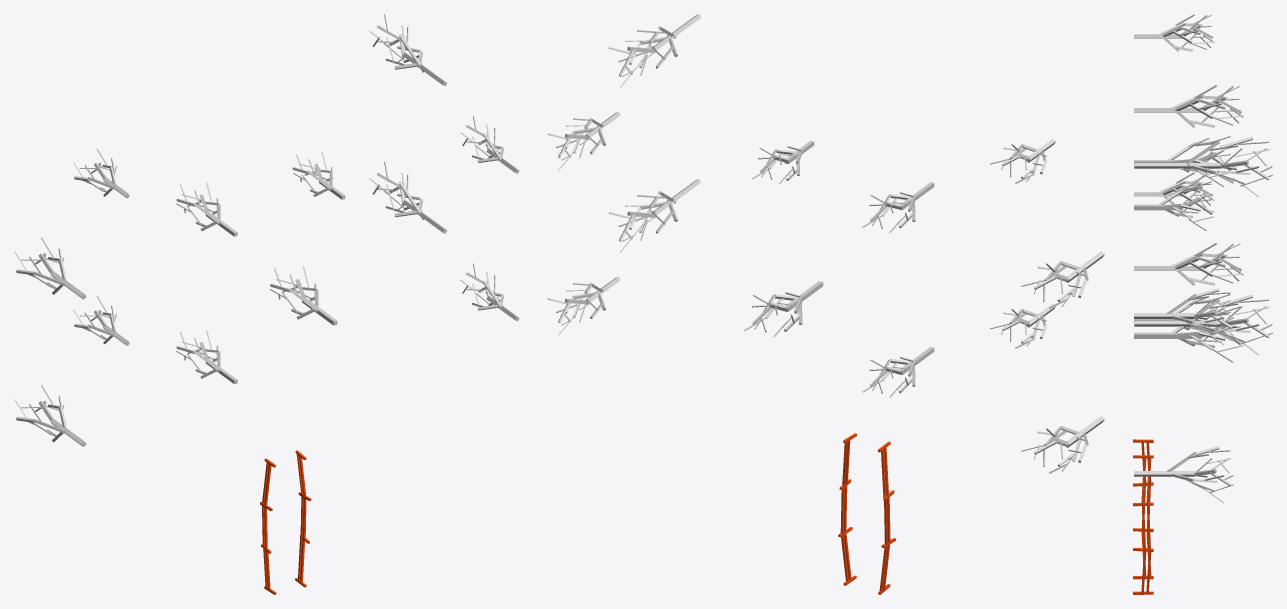
Rendered from trees1.dae.
3 renders of one model, left to right at view 1: azimuth 30°, elevation 25°; view 2: azimuth 150°, elevation 25°; view 3: azimuth 270°, elevation 25°, orthographic. The views are drawn at different scales.
Parts seen in each view (by area): view 1: no part large enough to name; view 2: no part large enough to name; view 3: Cube.147, Cube.317, Cube, Cube.275, Cube.105, Cube.084, Cube.254, Cube.212, Cube.296.
Part boxes in pixels (left/top/right/bottom): Cube.147: left=1134, top=320, right=1220, bottom=326; Cube.317: left=1134, top=163, right=1220, bottom=168; Cube: left=1134, top=332, right=1201, bottom=338; Cube.275: left=1134, top=313, right=1195, bottom=318; Cube.105: left=1134, top=471, right=1195, bottom=476; Cube.084: left=1134, top=266, right=1200, bottom=270; Cube.254: left=1134, top=108, right=1200, bottom=112; Cube.212: left=1134, top=204, right=1182, bottom=210; Cube.296: left=1134, top=34, right=1182, bottom=38.
Size of the model in its own units: 67.92 by 16.06 by 66.81.
